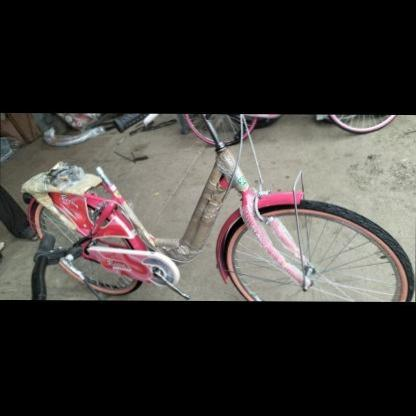Bicycle: (7, 114, 415, 303)
